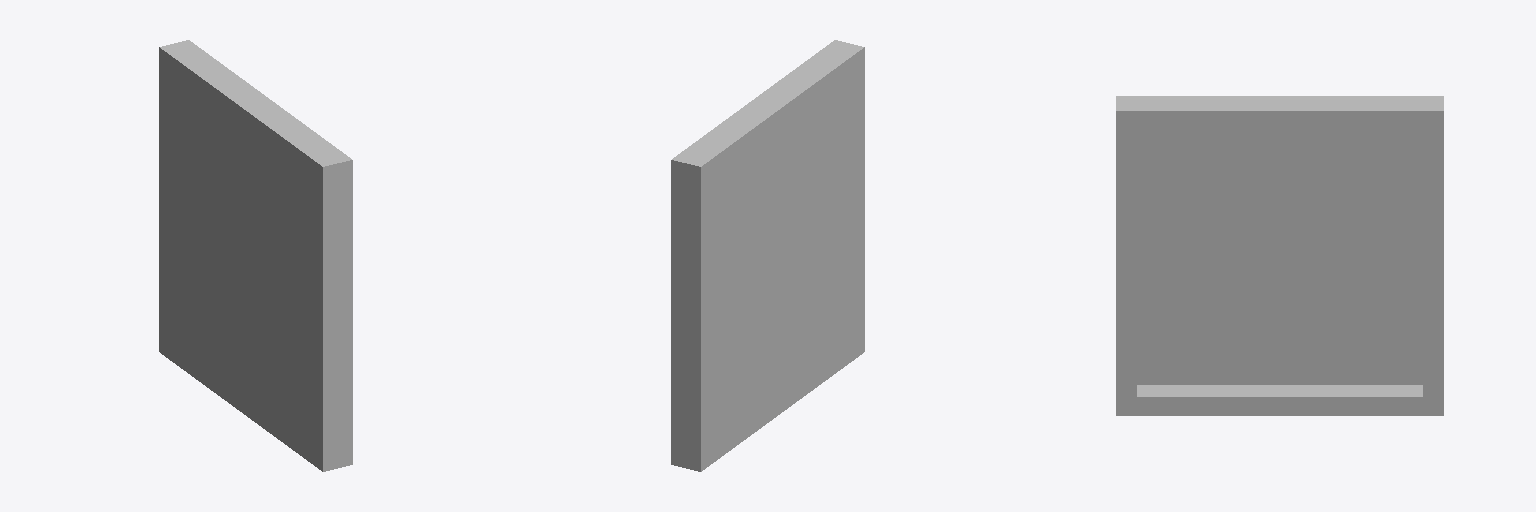
Rendered from ibm1620.obj.
The picture shows the model from 3 angles: view 1: azimuth 30°, elevation 25°; view 2: azimuth 150°, elevation 25°; view 3: azimuth 270°, elevation 25°; orthographic projection.
Visible parts, largest first — view 1: ibm1620; view 2: ibm1620; view 3: ibm1620.
Part boxes in pixels (x1,y1,x2,y2): ibm1620: (159, 40, 352, 471); ibm1620: (671, 40, 864, 471); ibm1620: (1116, 96, 1443, 415).
Bounding box in the file's own units: 0.3819 × 3.74 × 3.64.